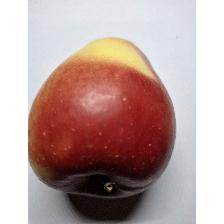Apfel: (29, 37, 179, 201)
